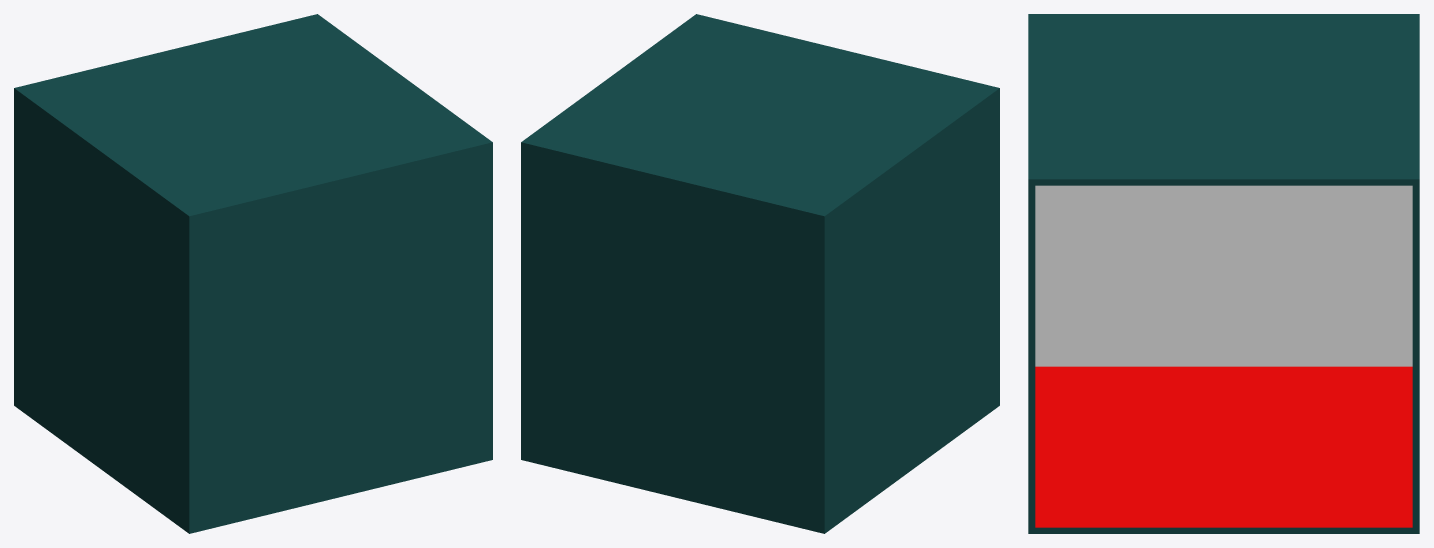
3 views of the same model, side by side, from view 1: azimuth 30°, elevation 25°; view 2: azimuth 150°, elevation 25°; view 3: azimuth 270°, elevation 25° (orthographic). The views are drawn at different scales.
Visible parts, largest first — view 1: normal1; view 2: normal1; view 3: normal1.
Part boxes in pixels (bbox=[...]): normal1: bbox=[14, 14, 492, 533]; normal1: bbox=[521, 14, 999, 533]; normal1: bbox=[1028, 14, 1419, 533].
Size of the model in its own units: 400 by 400 by 400.
